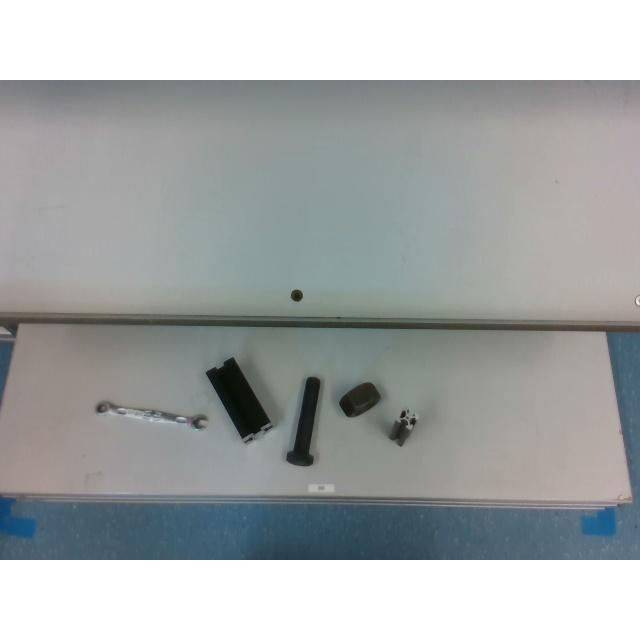F20_20_B: (389, 409, 418, 446)
M20_100: (284, 378, 320, 467)
M30: (338, 382, 380, 418)
S40_40_B: (206, 358, 274, 442)
Wrench: (95, 401, 207, 429)
